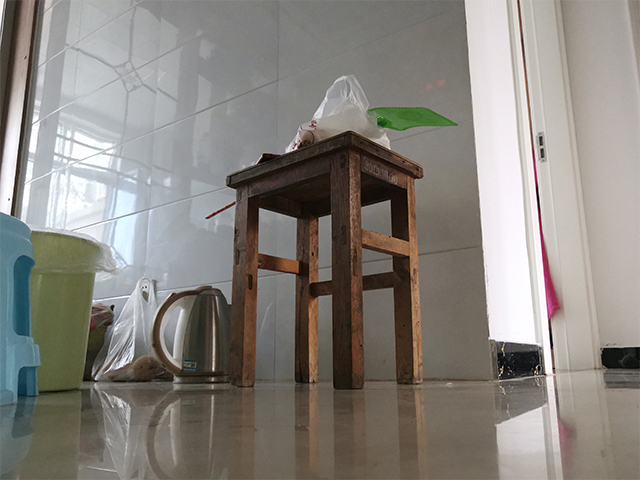stool: (223, 128, 427, 391)
trashcan: (27, 229, 109, 396)
